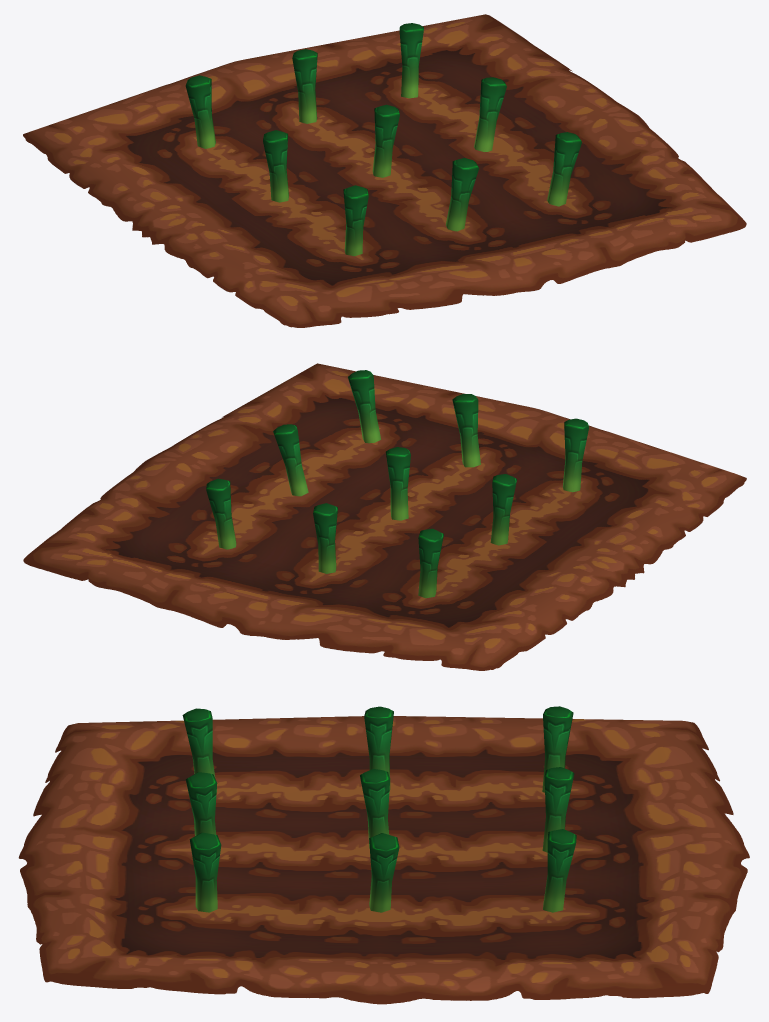
The model's file is Pineapple_Field_Lv1.FBX.
3 views of the same model, one above another, from view 1: azimuth 30°, elevation 25°; view 2: azimuth 150°, elevation 25°; view 3: azimuth 270°, elevation 25° (orthographic). The views are drawn at different scales.
Visible parts, largest first — view 1: Pineapple_Field_Lv1; view 2: Pineapple_Field_Lv1; view 3: Pineapple_Field_Lv1.
Part boxes in pixels (x1=…): Pineapple_Field_Lv1: x1=23, y1=14, x2=746, y2=327; Pineapple_Field_Lv1: x1=23, y1=363, x2=746, y2=670; Pineapple_Field_Lv1: x1=18, y1=706, x2=749, y2=1004.
Bounding box in the file's own units: 274 × 38.21 × 296.
